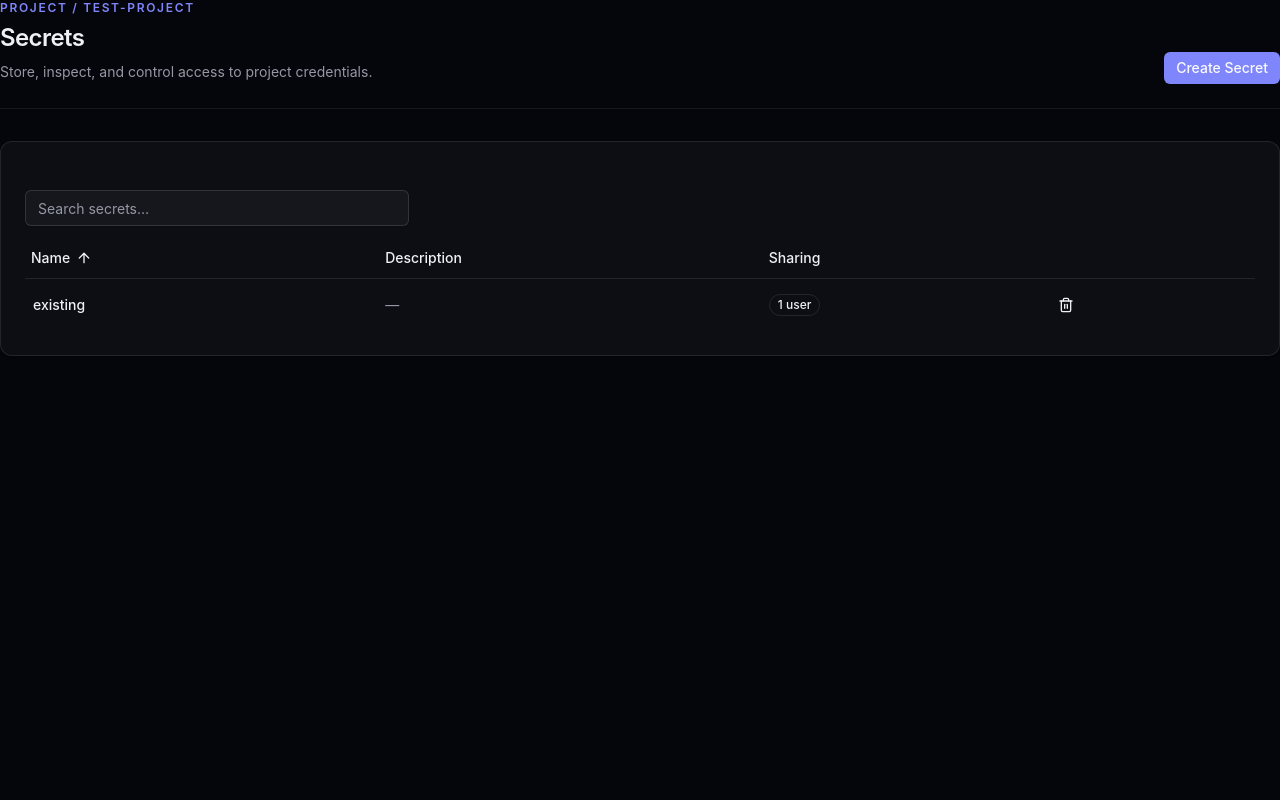
SecretsListPage › pre-populates create dialog with default grants from project
Click the button "Create Secret" at (1222, 68), box [1164, 52, 1279, 84]
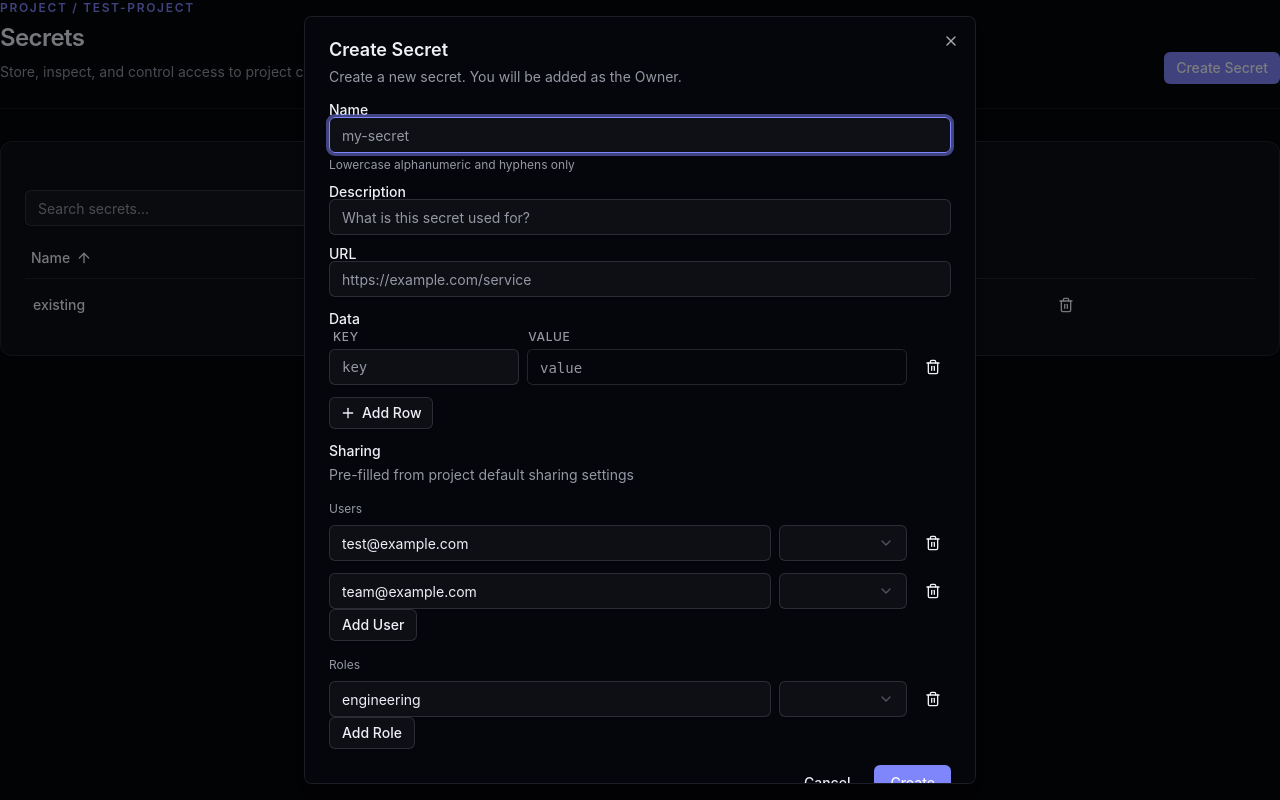
Expected: the field showing "test@example.com" is shown, [329, 525, 771, 561]
Expected: the field showing "team@example.com" is shown, [329, 573, 771, 609]
Expected: the field showing "engineering" is shown, [329, 681, 771, 717]
